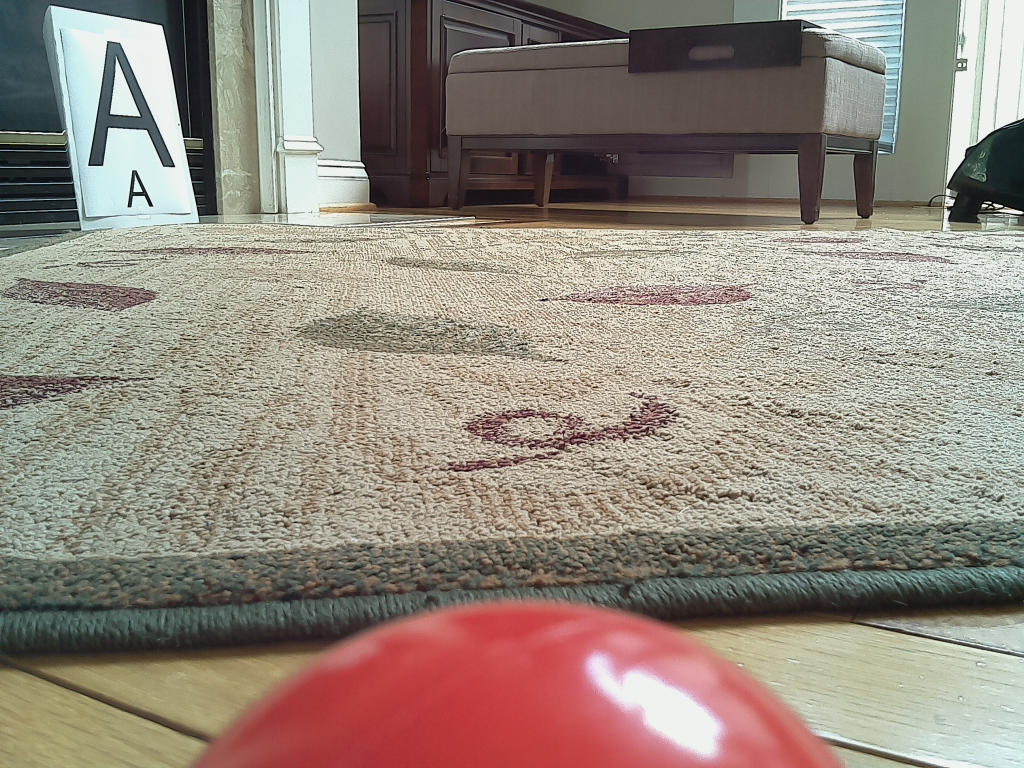letter: (87, 41, 175, 168)
